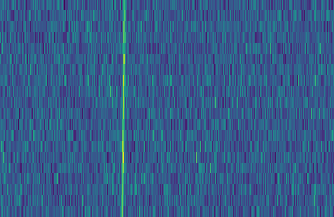signal: (116, 0, 127, 217)
